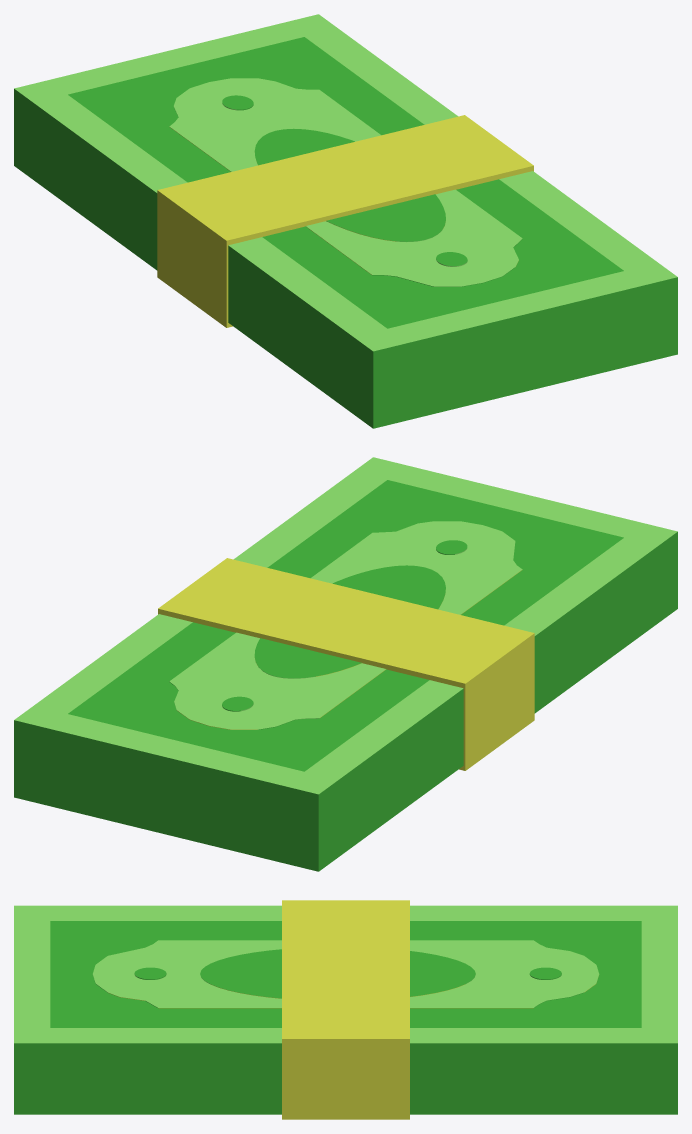
File: Money.fbx
3 views of the same model, one above another, from view 1: azimuth 30°, elevation 25°; view 2: azimuth 150°, elevation 25°; view 3: azimuth 270°, elevation 25° (orthographic). The views are drawn at different scales.
Visible parts, largest first — view 1: Cube.047; view 2: Cube.047; view 3: Cube.047.
Part boxes in pixels (x1,y1,x2,y2): Cube.047: [14, 14, 677, 428]; Cube.047: [14, 457, 677, 871]; Cube.047: [14, 900, 677, 1119].
Size of the model in its own units: 76.17 by 20.69 by 154.
